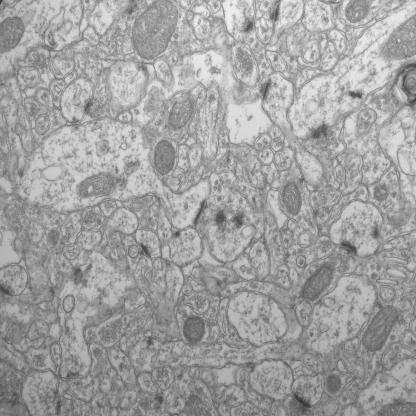mitochondria: (129, 0, 181, 60), (359, 302, 402, 354), (297, 258, 335, 304), (74, 170, 123, 202), (164, 89, 196, 130), (0, 13, 27, 55), (152, 136, 177, 178), (280, 178, 304, 220), (182, 311, 206, 346), (345, 0, 374, 27), (372, 181, 393, 211), (324, 371, 340, 396)
